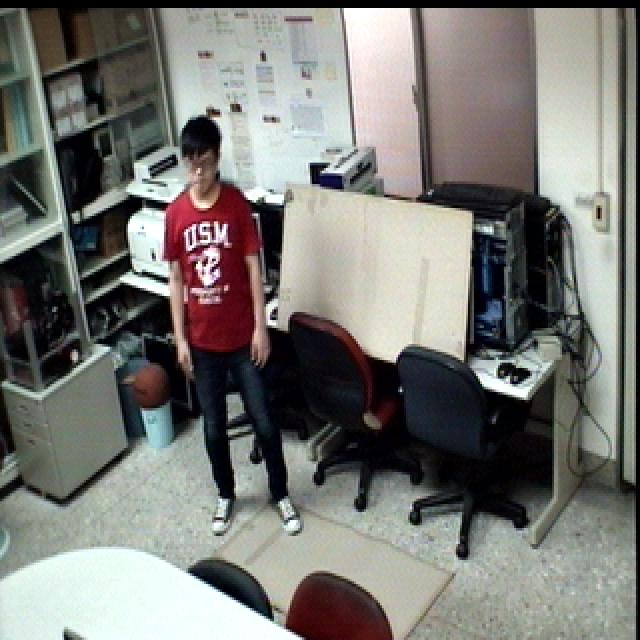stand: (157, 111, 306, 543)
